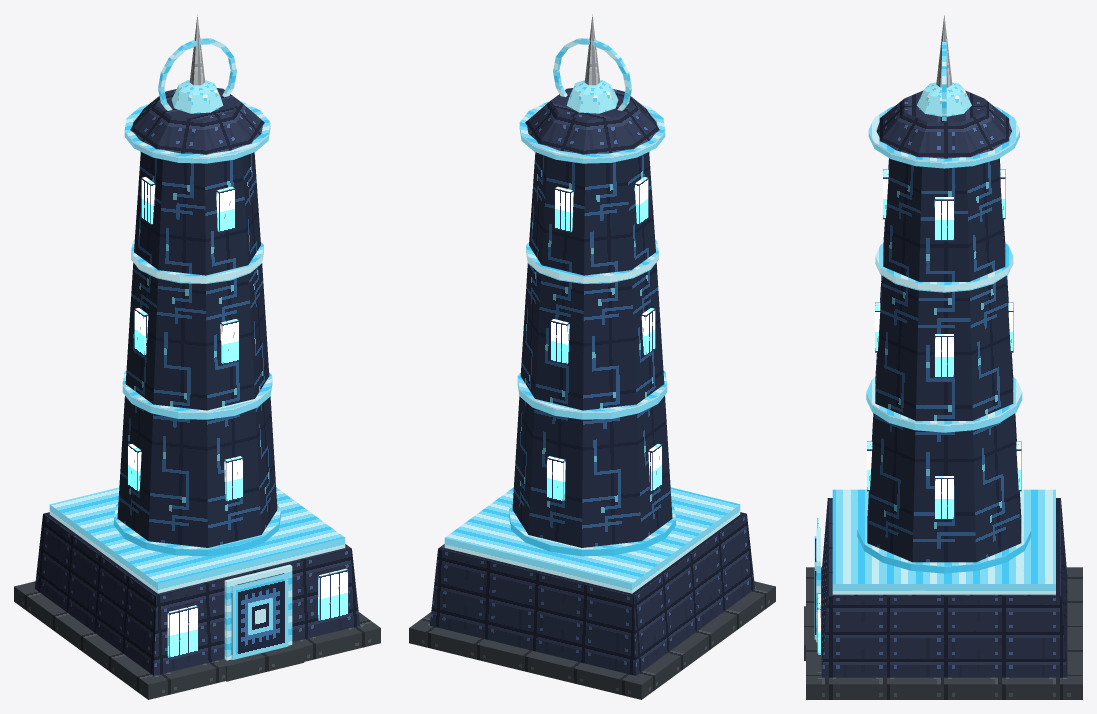
The model's file is tower.glb.
The picture shows the model from 3 angles, left to right: view 1: azimuth 30°, elevation 25°; view 2: azimuth 150°, elevation 25°; view 3: azimuth 270°, elevation 25°; orthographic projection. The views are drawn at different scales.
Parts seen in each view (by area): view 1: tower; view 2: tower; view 3: tower.
Part boxes in pixels (x1,y1,x2,y2): tower: (14, 14, 380, 699); tower: (409, 14, 775, 699); tower: (804, 15, 1082, 699).
Size of the model in its own units: 4.8 by 12 by 4.83.
Materials: 8 (8 with a texture image).
